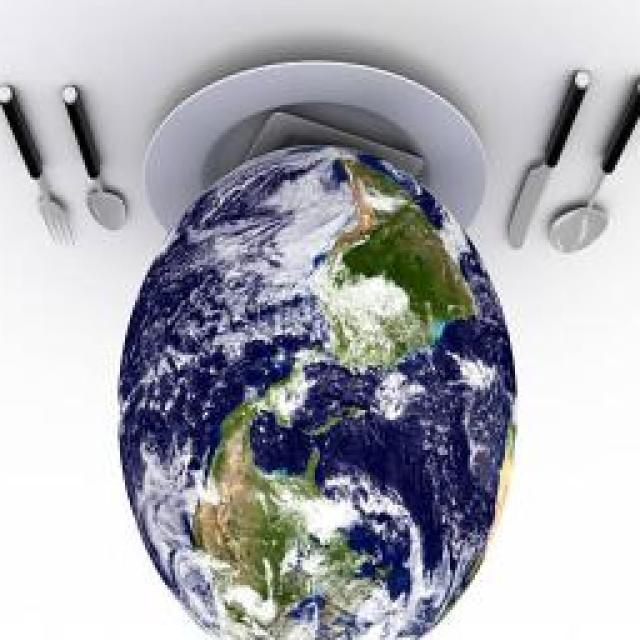knife: (508, 66, 592, 250)
